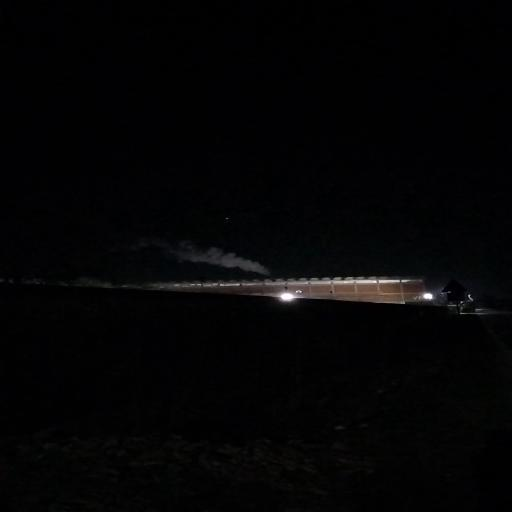leakage: (129, 229, 282, 278)
